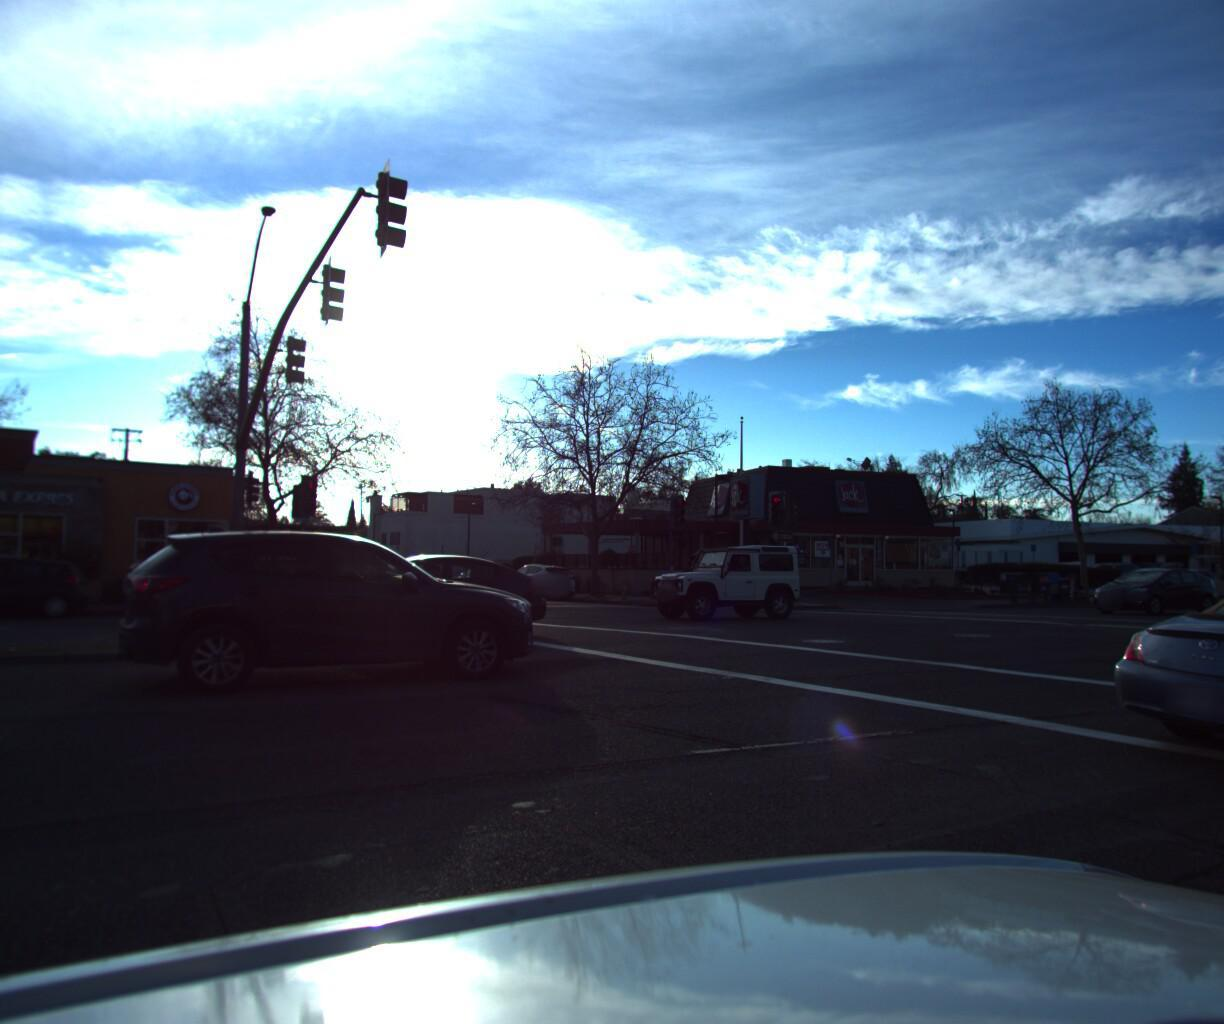car: (113, 516, 574, 697), (1084, 563, 1224, 807), (282, 541, 558, 646), (642, 537, 814, 618), (1076, 558, 1219, 612), (0, 554, 104, 624), (498, 559, 582, 599), (1189, 555, 1224, 594), (1066, 543, 1124, 562)
